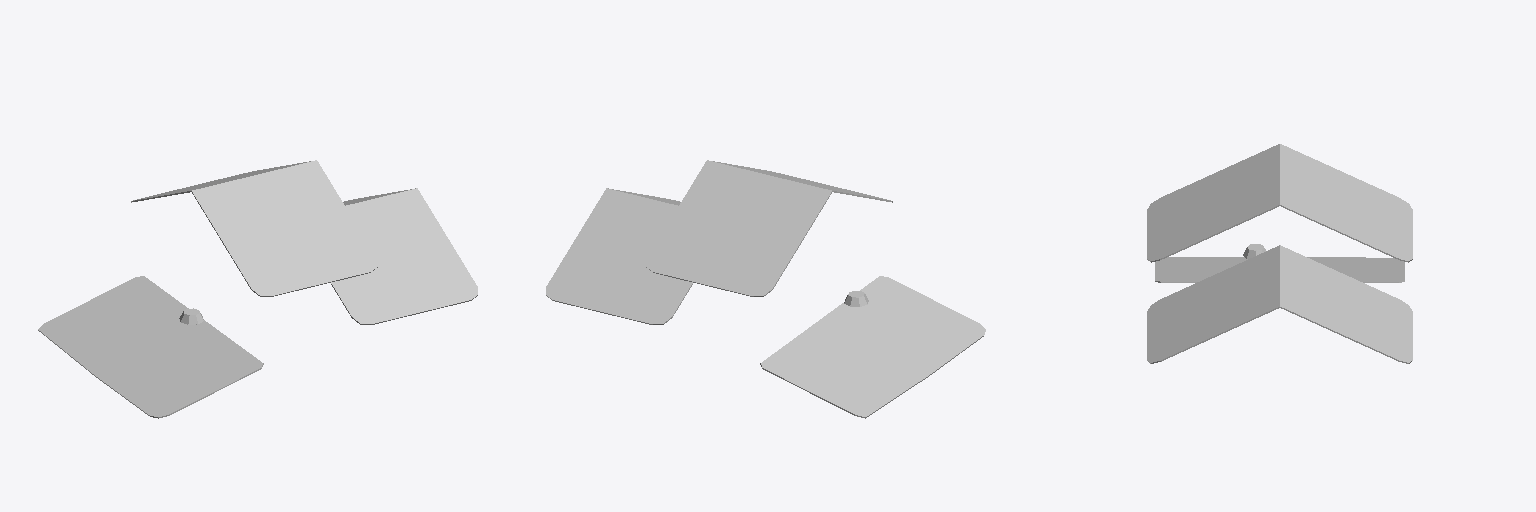
Rendered from building-type-c_roof.obj.
3 renders of one model, left to right at view 1: azimuth 30°, elevation 25°; view 2: azimuth 150°, elevation 25°; view 3: azimuth 270°, elevation 25°, orthographic.
Parts seen in each view (by area): view 1: building-type-c.001; view 2: building-type-c.001; view 3: building-type-c.001.
Boxes of the visible parts, box(x1,y1,x2,y2) form: building-type-c.001: box(38, 160, 477, 418); building-type-c.001: box(546, 160, 985, 418); building-type-c.001: box(1147, 144, 1412, 363).
Size of the model in its own units: 1.29 by 0.6166 by 0.9163.